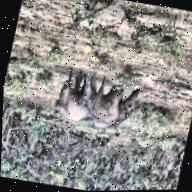boar: (70, 75, 129, 131), (99, 81, 148, 141), (51, 69, 95, 124)
